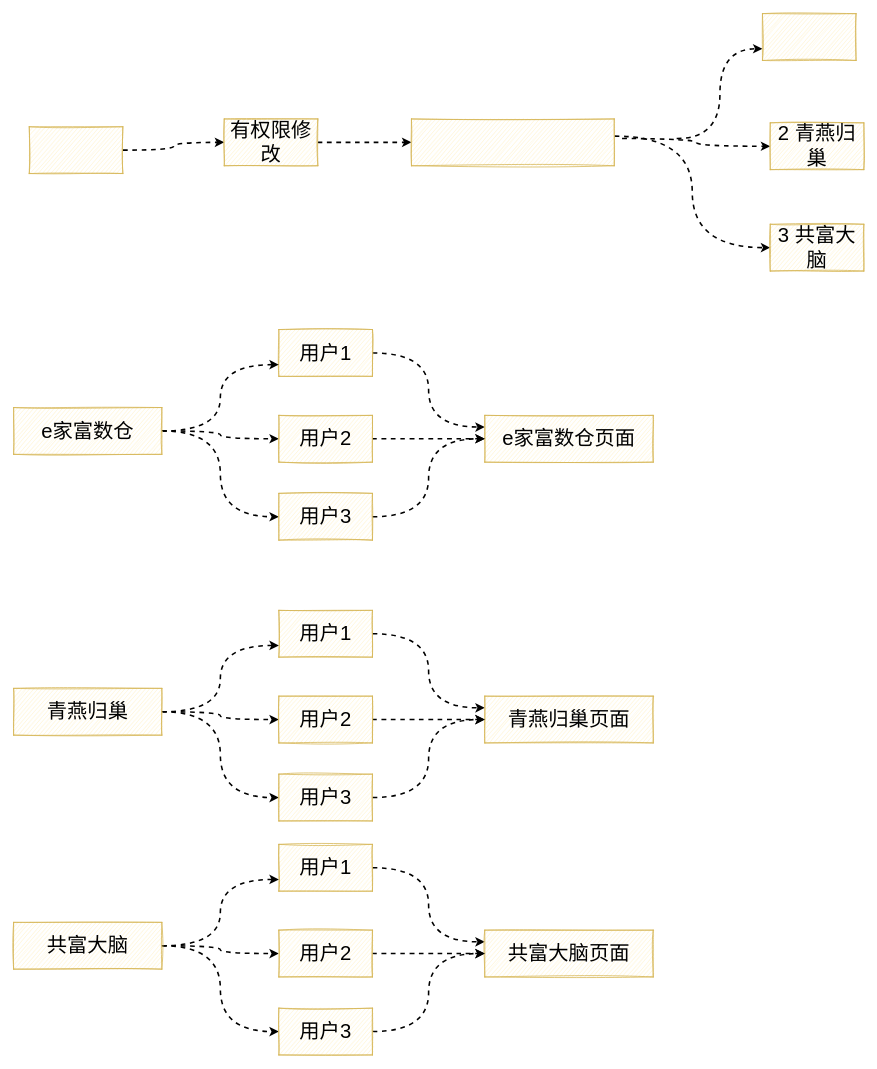
Some shapes in this 877 by 1069 pixel diagram are drawn without their labels. Each missing label, with the centre of its shape:
"1 e家富" goes at (x=809, y=36).
"root" goes at (x=75, y=150).
"state 全局状态变量" goes at (x=512, y=142).
